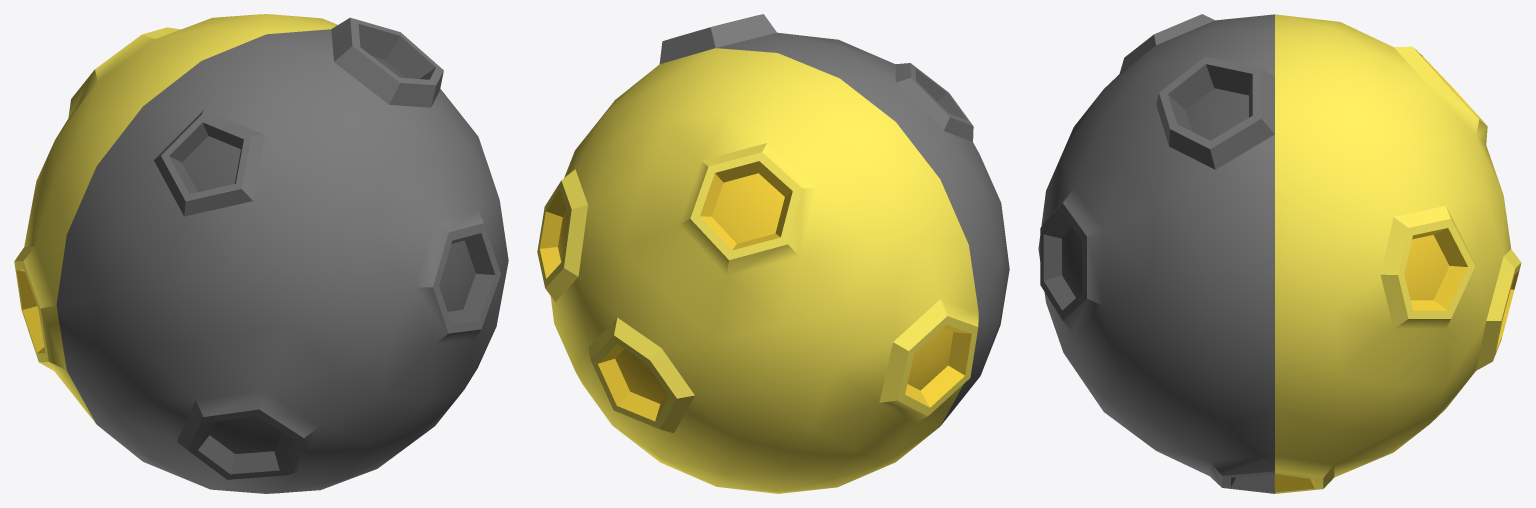
The model's file is new_moon.glb.
3 renders of one model, left to right at view 1: azimuth 30°, elevation 25°; view 2: azimuth 150°, elevation 25°; view 3: azimuth 270°, elevation 25°, orthographic. The views are drawn at different scales.
Parts seen in each view (by area): view 1: Icosphere; view 2: Icosphere; view 3: Icosphere.
Boxes of the visible parts, <box> form: Icosphere: <box>14,14,508,493</box>; Icosphere: <box>537,14,1009,493</box>; Icosphere: <box>1038,14,1521,493</box>.
Bounding box in the file's own units: 2.04 × 2.01 × 2.04.
1 material, 1 textured.
